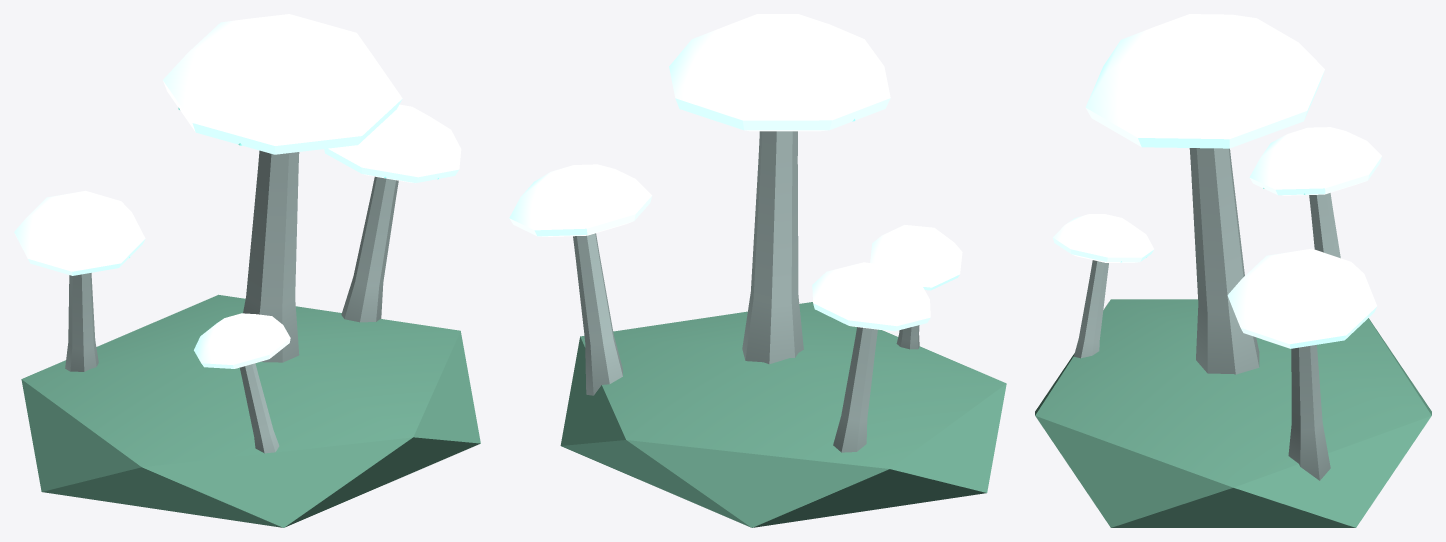
Rendered from glimmerwood_glowcap.glb.
3 views of the same model, side by side, from view 1: azimuth 30°, elevation 25°; view 2: azimuth 150°, elevation 25°; view 3: azimuth 270°, elevation 25° (orthographic). The views are drawn at different scales.
Parts seen in each view (by area): view 1: glimmerwood_glowcap; view 2: glimmerwood_glowcap; view 3: glimmerwood_glowcap.
Boxes of the visible parts, x1,y1,x2,y2 form: glimmerwood_glowcap: (14,14,480,527); glimmerwood_glowcap: (509,14,1006,527); glimmerwood_glowcap: (1035,14,1431,527).
Bounding box in the file's own units: 0.6949 × 0.6744 × 0.524.
